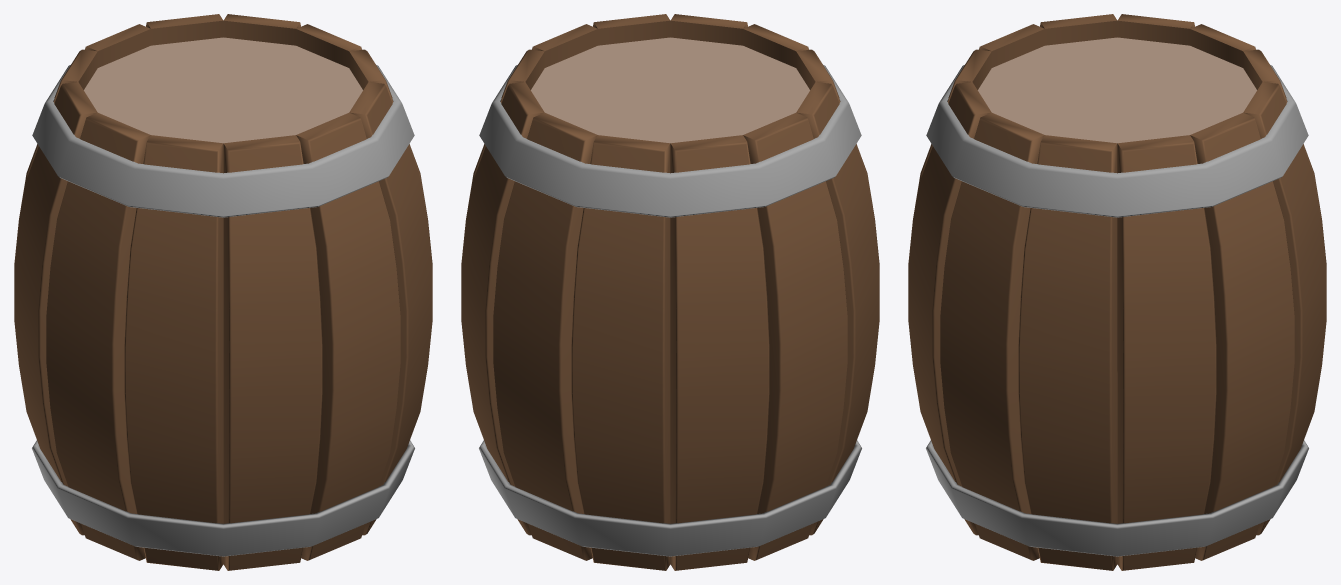
Rendered from Barrel.glb.
3 views of the same model, side by side, from view 1: azimuth 30°, elevation 25°; view 2: azimuth 150°, elevation 25°; view 3: azimuth 270°, elevation 25° (orthographic).
Visible parts, largest first — view 1: Barrel_1; view 2: Barrel_1; view 3: Barrel_1.
Boxes of the visible parts, x1,y1,x2,y2 form: Barrel_1: (14, 14, 432, 570); Barrel_1: (461, 14, 879, 570); Barrel_1: (908, 14, 1326, 570).
Size of the model in its own units: 0.5248 by 0.5825 by 0.5248.
1 material, 1 textured.
